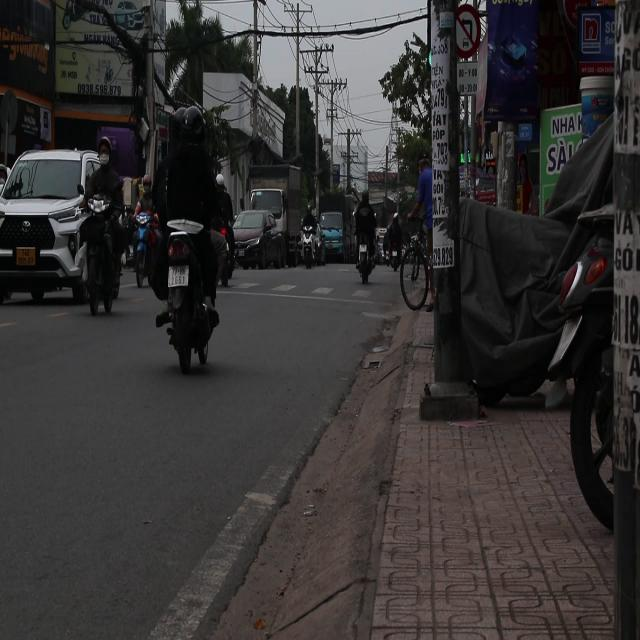car: (0, 148, 104, 306), (231, 210, 282, 270), (318, 211, 346, 259)
motorbike: (156, 218, 219, 372), (76, 186, 126, 314), (132, 210, 164, 292), (214, 222, 238, 287), (354, 228, 376, 292), (298, 222, 322, 270)
truck: (248, 190, 302, 265)
